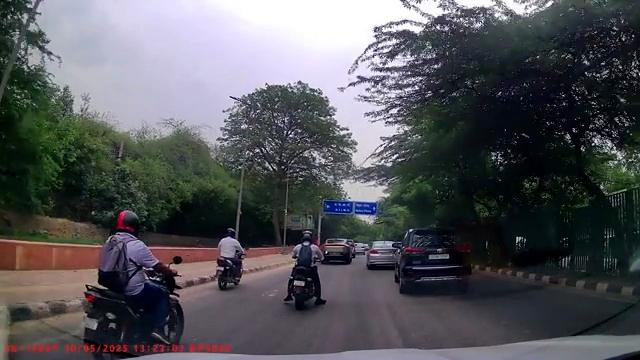motorcycle_with_helmet: (80, 207, 186, 359), (283, 229, 328, 311), (214, 227, 245, 291)
